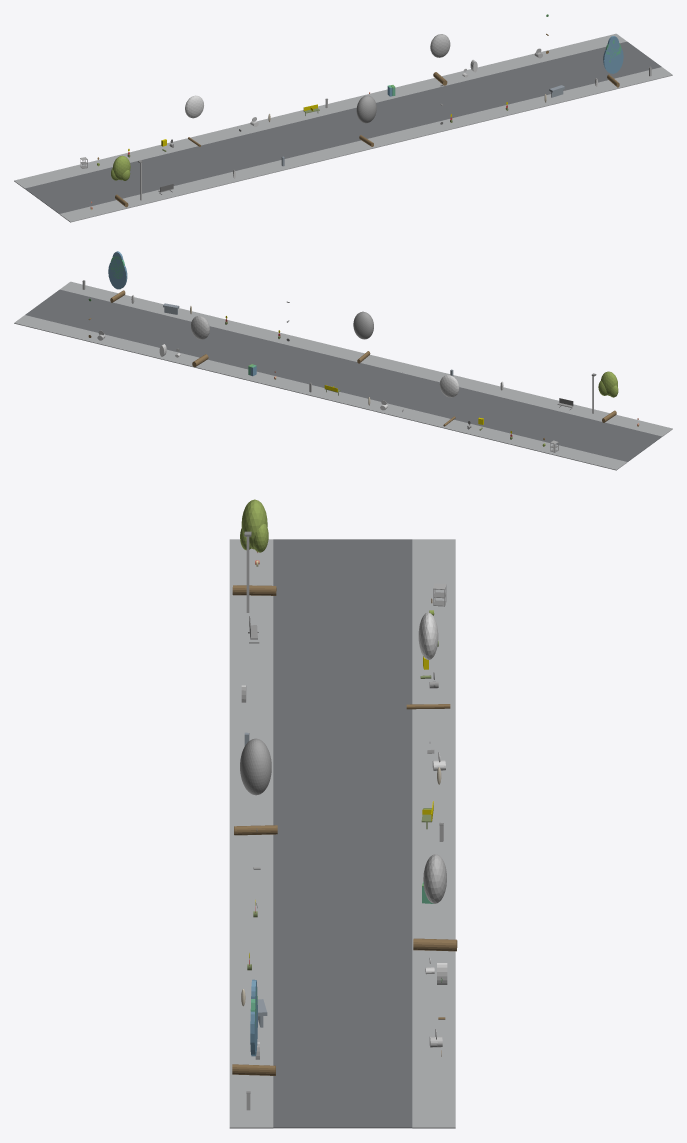
3 views of the same model, one above another, from view 1: azimuth 30°, elevation 25°; view 2: azimuth 150°, elevation 25°; view 3: azimuth 270°, elevation 25° (orthographic). The views are drawn at different scales.
Parts seen in each view (by area): view 1: road_slab, sidewalk_left, sidewalk_right, inst_0016, inst_0014, inst_0015, inst_0012, inst_0013; view 2: road_slab, sidewalk_right, sidewalk_left, inst_0016, inst_0014, inst_0012, inst_0015, inst_0013; view 3: road_slab, sidewalk_left, sidewalk_right, inst_0014, inst_0012, inst_0015, inst_0016, inst_0013.
Boxes of the visible parts, x1=… form: road_slab: x1=25, y1=41, x2=661, y2=213; sidewalk_left: x1=59, y1=67, x2=672, y2=222; sidewalk_right: x1=14, y1=33, x2=626, y2=188; inst_0016: x1=603, y1=36, x2=623, y2=87; inst_0014: x1=356, y1=95, x2=376, y2=146; inst_0015: x1=430, y1=34, x2=450, y2=85; inst_0012: x1=111, y1=155, x2=130, y2=207; inst_0013: x1=185, y1=95, x2=203, y2=146; road_slab: x1=25, y1=289, x2=661, y2=461; sidewalk_right: x1=14, y1=315, x2=627, y2=470; sidewalk_left: x1=60, y1=281, x2=672, y2=436; inst_0016: x1=108, y1=251, x2=127, y2=302; inst_0014: x1=353, y1=311, x2=373, y2=363; inst_0012: x1=598, y1=371, x2=618, y2=422; inst_0015: x1=191, y1=315, x2=209, y2=367; inst_0013: x1=439, y1=375, x2=459, y2=426; road_slab: x1=273, y1=539, x2=412, y2=1128; sidewalk_left: x1=229, y1=539, x2=273, y2=1128; sidewalk_right: x1=412, y1=539, x2=455, y2=1128; inst_0014: x1=234, y1=738, x2=277, y2=835; inst_0012: x1=232, y1=499, x2=276, y2=595; inst_0015: x1=413, y1=854, x2=457, y2=951; inst_0016: x1=232, y1=979, x2=275, y2=1075; inst_0013: x1=406, y1=612, x2=450, y2=709.
Size of the model in its own units: 80 by 6.08 by 13.08.
